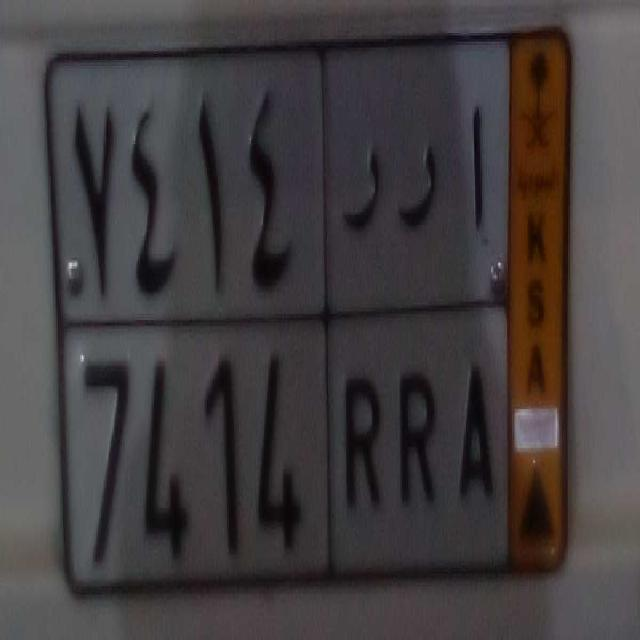license_plate: (62, 310, 510, 584)
